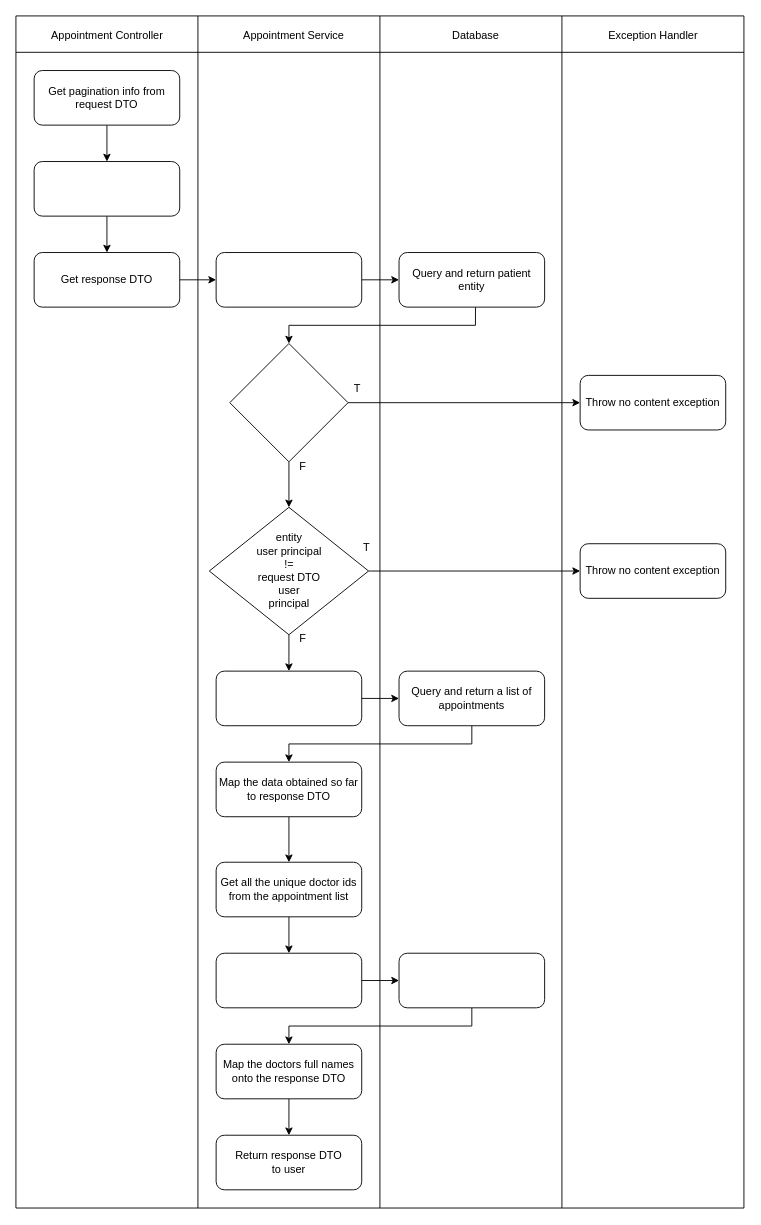
Image size: 761x1225. Some labels were removed from this diagram. The centre of each missing label's shape, as x and y in pixels:
Get a list of doctors from the unique doctor ids: [288,980]
Get appointments from patient id: [288,698]
Get patient entity from id: [288,279]
Get user principal from request DTO: [106,188]
patient entity == null: [288,402]
Query and return a list of doctors: [471,980]
